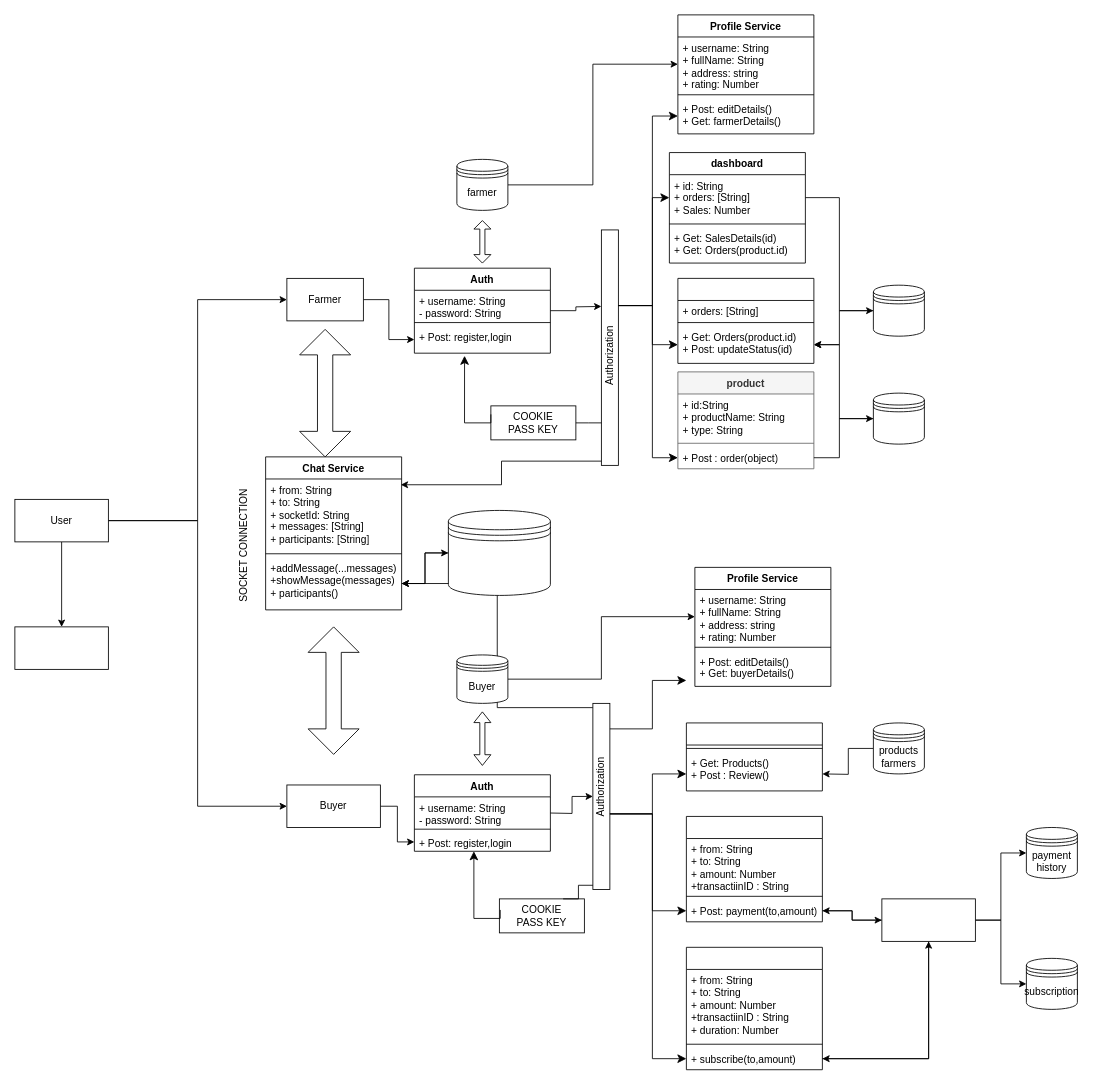
Some shapes in this 1094 by 1087 pixel diagram are drawn without their labels. The box of each missing label's shape, as (x1, y1, x2, y2) in pixels:
Admin: (14, 626, 108, 669)
conversations messages participants: (448, 510, 550, 595)
Market Service: (686, 722, 822, 791)
Order Service: (677, 278, 814, 363)
orders: (873, 284, 924, 336)
Payment Service: (686, 816, 822, 922)
products: (873, 392, 924, 444)
Stripe/Razorpay: (881, 898, 975, 941)
Subscription Service: (686, 946, 822, 1070)
